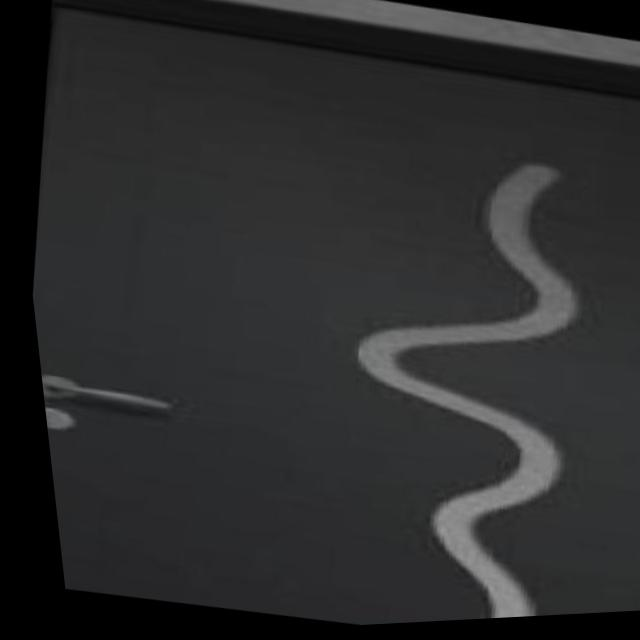door_handle: (32, 362, 187, 427)
